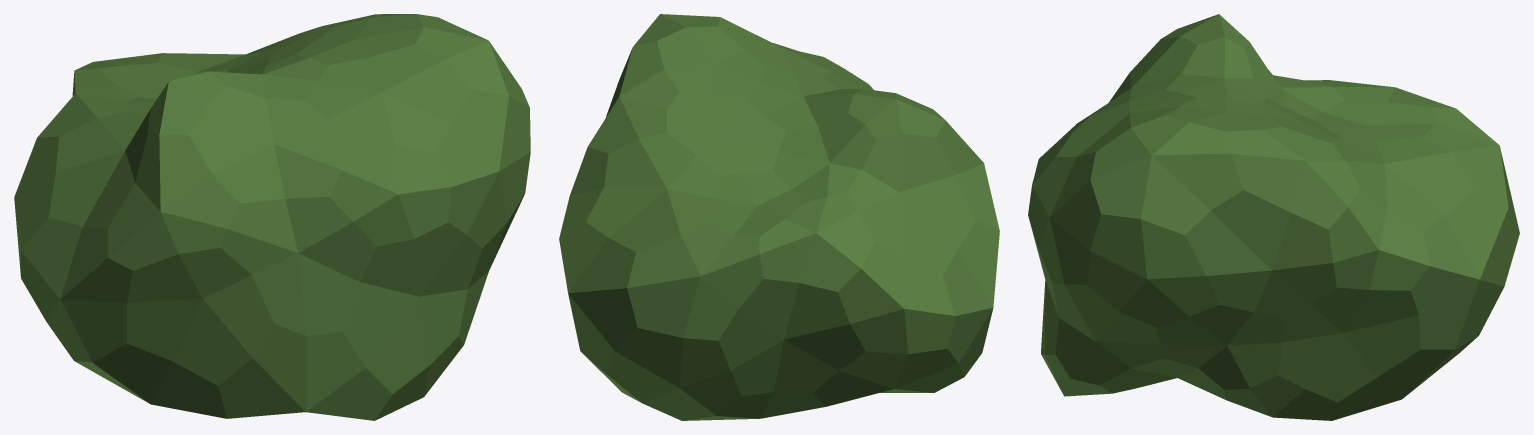
Rendered from bush2.fbx.
3 renders of one model, left to right at view 1: azimuth 30°, elevation 25°; view 2: azimuth 150°, elevation 25°; view 3: azimuth 270°, elevation 25°, orthographic. The views are drawn at different scales.
Parts seen in each view (by area): view 1: Icosphere.007; view 2: Icosphere.007; view 3: Icosphere.007.
Part boxes in pixels (box(x1,y1,x2,y2)): Icosphere.007: box(14, 14, 530, 420); Icosphere.007: box(559, 14, 999, 420); Icosphere.007: box(1028, 14, 1519, 420).
Bounding box in the file's own units: 133 × 96.93 × 136.
